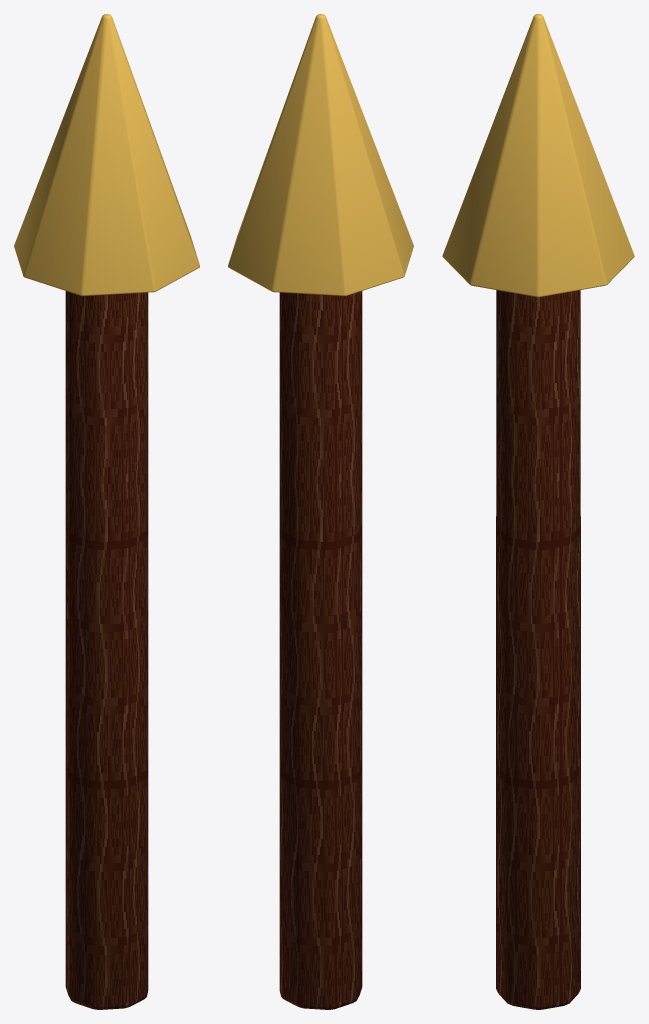
Rendered from torch.glb.
The picture shows the model from 3 angles, left to right: view 1: azimuth 30°, elevation 25°; view 2: azimuth 150°, elevation 25°; view 3: azimuth 270°, elevation 25°; orthographic projection.
Visible parts, largest first — view 1: torch_handle, torch_flame; view 2: torch_handle, torch_flame; view 3: torch_handle, torch_flame.
Boxes of the visible parts, x1,y1,x2,y2 form: torch_handle: (65, 291, 148, 1009); torch_flame: (14, 14, 199, 295); torch_handle: (279, 291, 362, 1009); torch_flame: (228, 14, 413, 295); torch_handle: (496, 290, 580, 1009); torch_flame: (442, 14, 634, 297).
Bounding box in the file's own units: 0.3956 × 2.23 × 0.3956.
2 materials, 1 textured.
